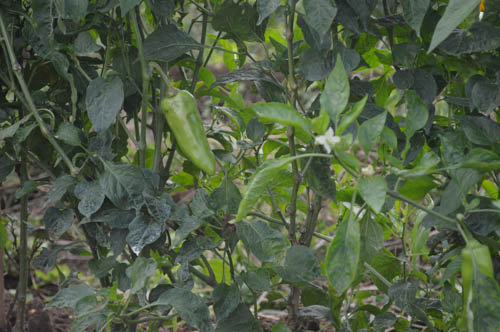ChiliPepper: (162, 91, 216, 169), (458, 246, 493, 293)
